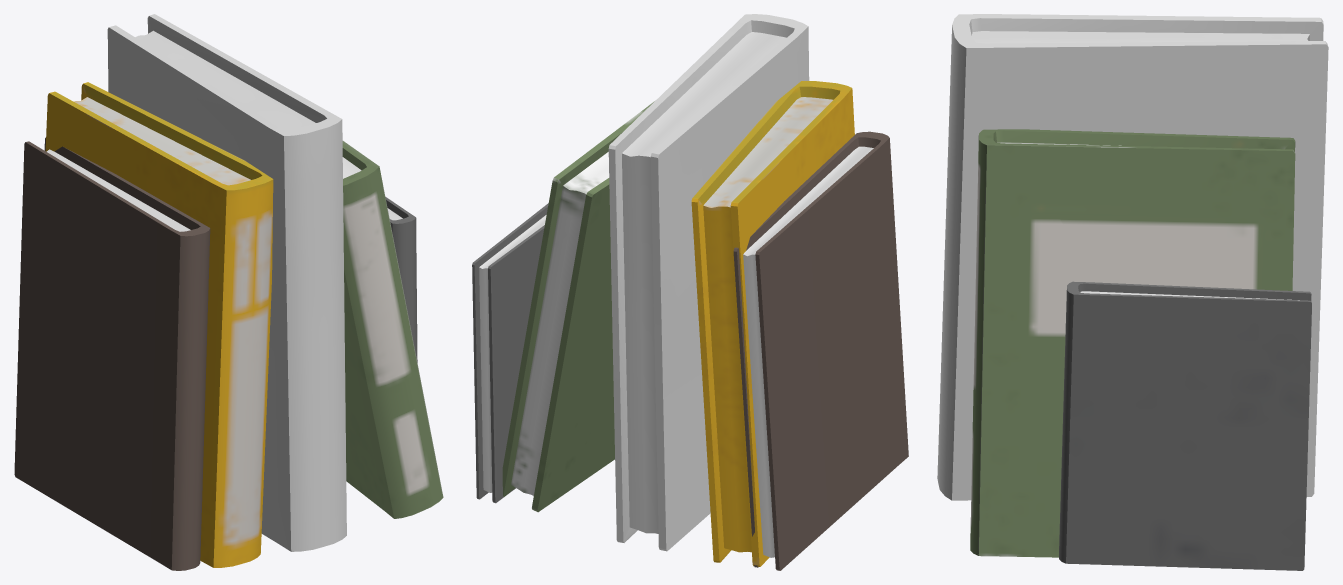
Rendered from bookStack00.fbx.
The picture shows the model from 3 angles, left to right: view 1: azimuth 30°, elevation 25°; view 2: azimuth 150°, elevation 25°; view 3: azimuth 270°, elevation 25°; orthographic projection. The views are drawn at different scales.
Visible parts, largest first — view 1: book01.001, book02.001, book00.001, book03.001, book04.001; view 2: book01.001, book02.001, book00.001, book03.001, book04.001; view 3: book03.001, book04.001, book02.001.
Part boxes in pixels (x1,y1,x2,y2): book01.001: (14, 137, 210, 570); book02.001: (107, 14, 346, 551); book00.001: (45, 82, 273, 567); book03.001: (342, 141, 443, 518); book04.001: (385, 197, 417, 362); book01.001: (733, 131, 908, 570); book02.001: (608, 14, 809, 551); book00.001: (691, 81, 854, 566); book03.001: (502, 101, 654, 512); book04.001: (472, 203, 548, 503); book03.001: (970, 129, 1295, 557); book04.001: (1059, 281, 1311, 570); book02.001: (937, 14, 1328, 500).
Bounding box in the file's own units: 0.9016 × 1.2 × 0.9091.
Materials: 1 (1 with a texture image).
